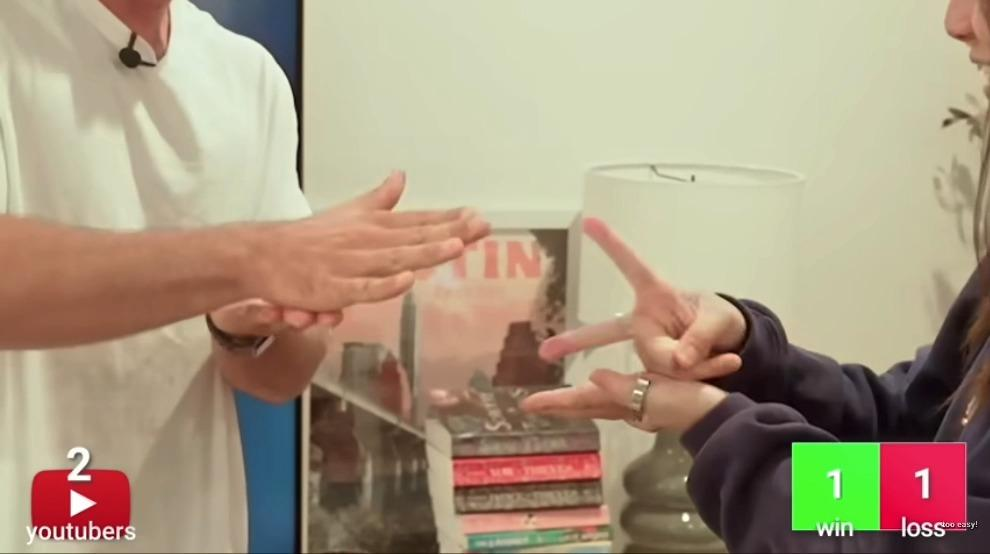Paper: (232, 170, 491, 305)
Scissors: (539, 206, 746, 376)
